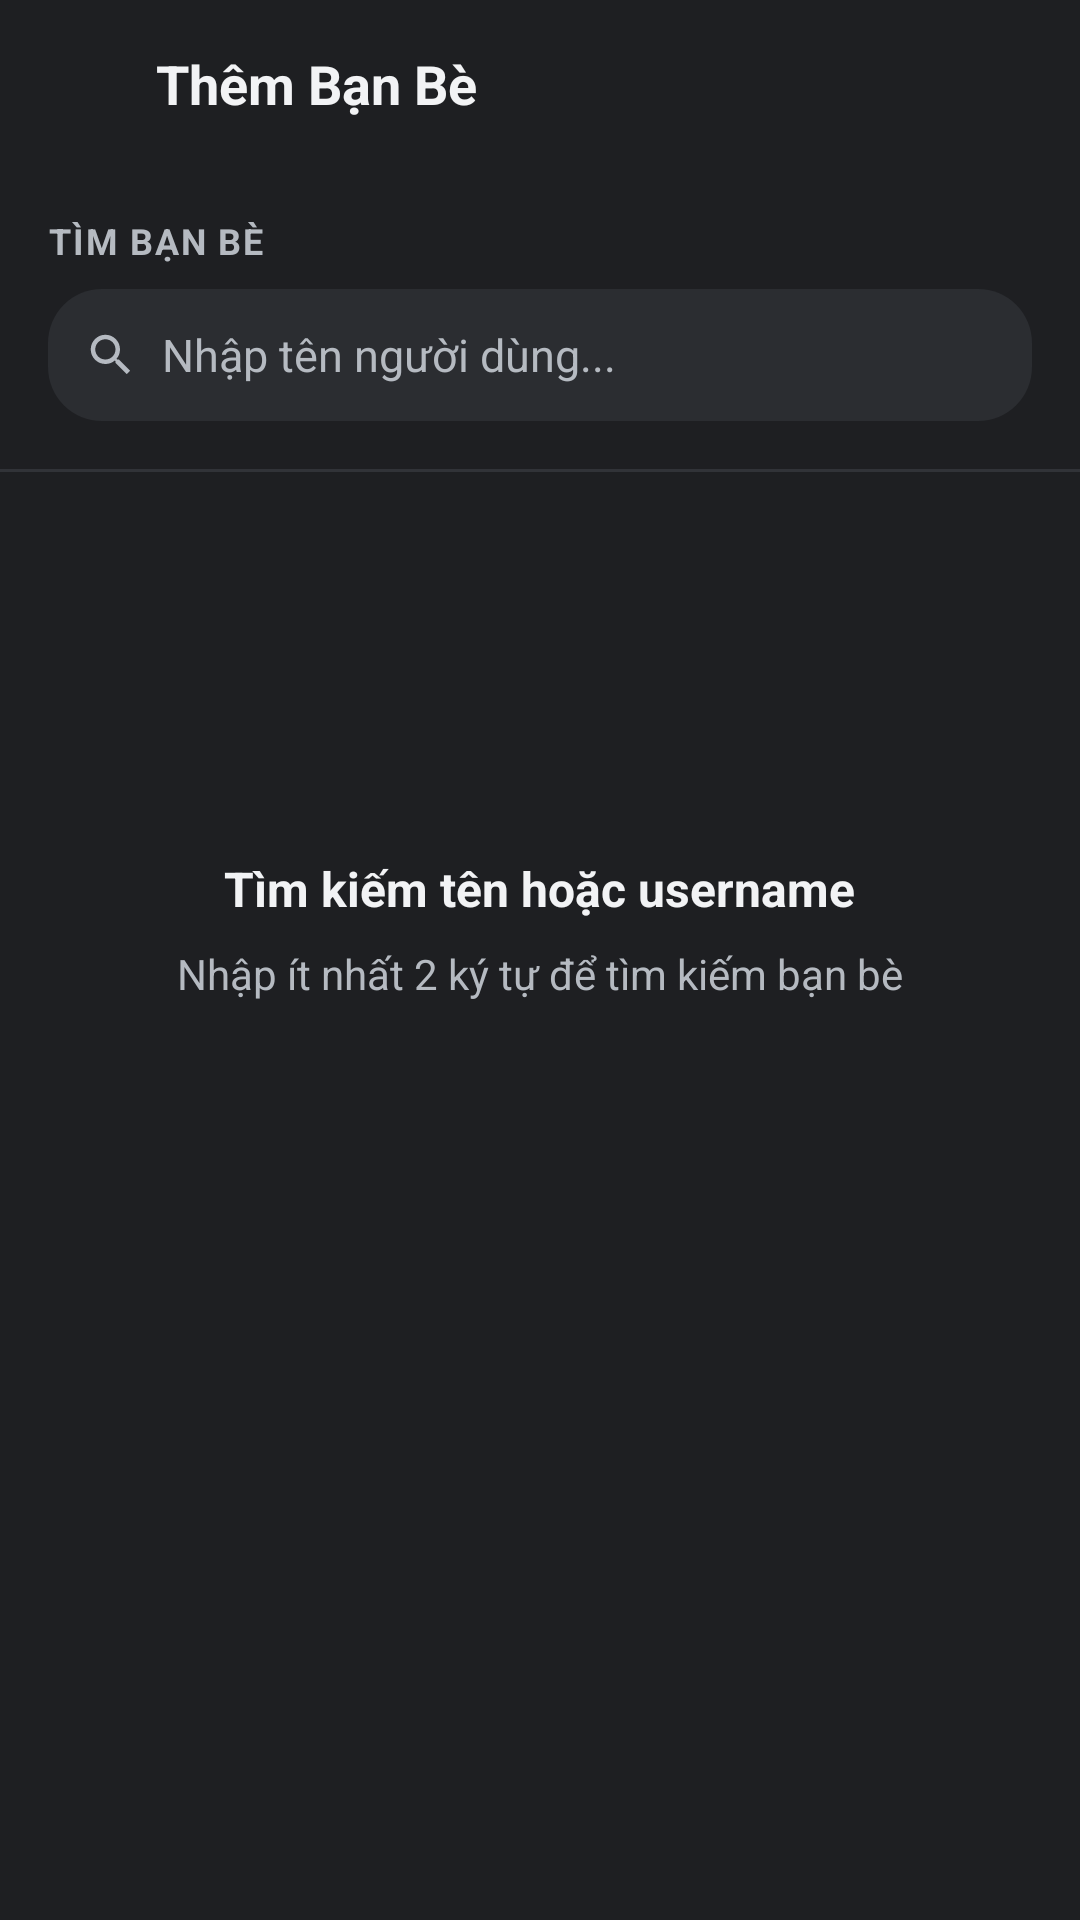

Point at icon controls on the screen. Image size 1080×1920, points as (x=x, y=y).
Tìm kiếm: (x=110, y=354)
